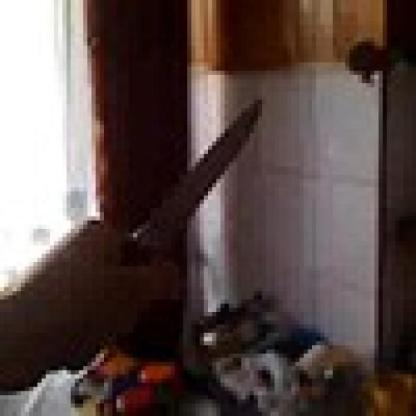Knife: (116, 91, 261, 278)
